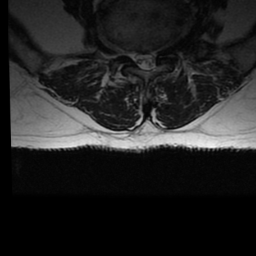CCS_stenosis: (141, 43, 148, 74)
LFS_stenosis: (156, 37, 165, 57)
LLS_normal: (148, 45, 156, 73)
RFS_stenosis: (123, 40, 132, 65)
RLS_normal: (132, 43, 141, 71)
